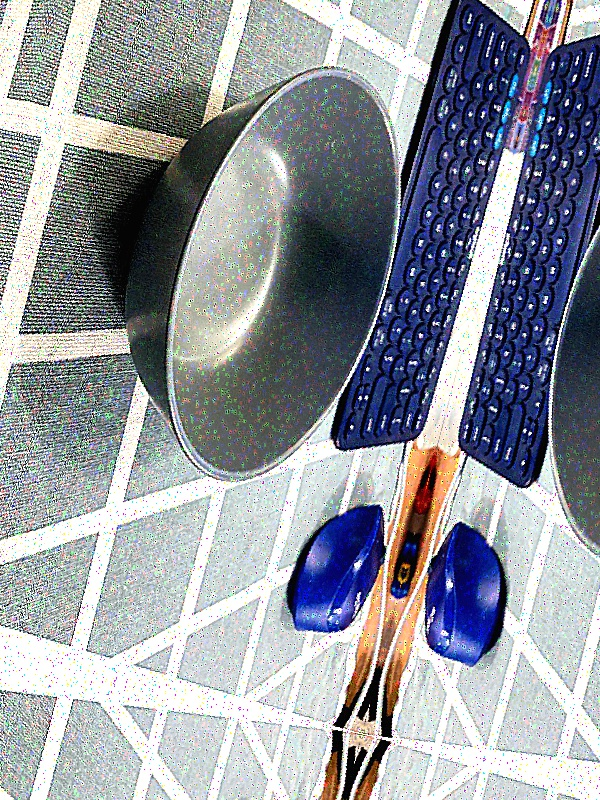bowl_big: (72, 36, 445, 519)
